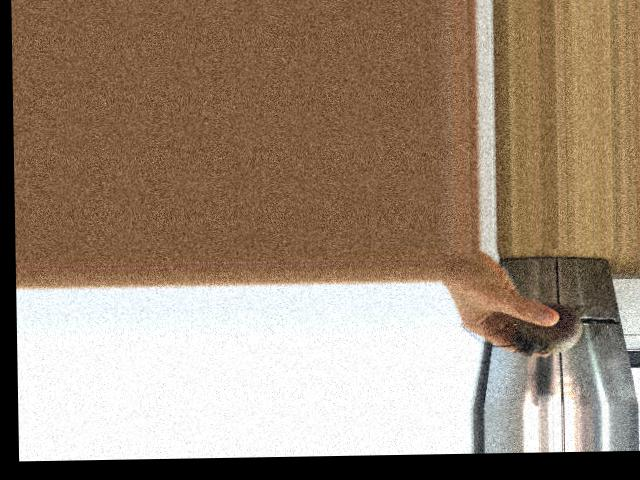beet: (461, 302, 594, 357)
